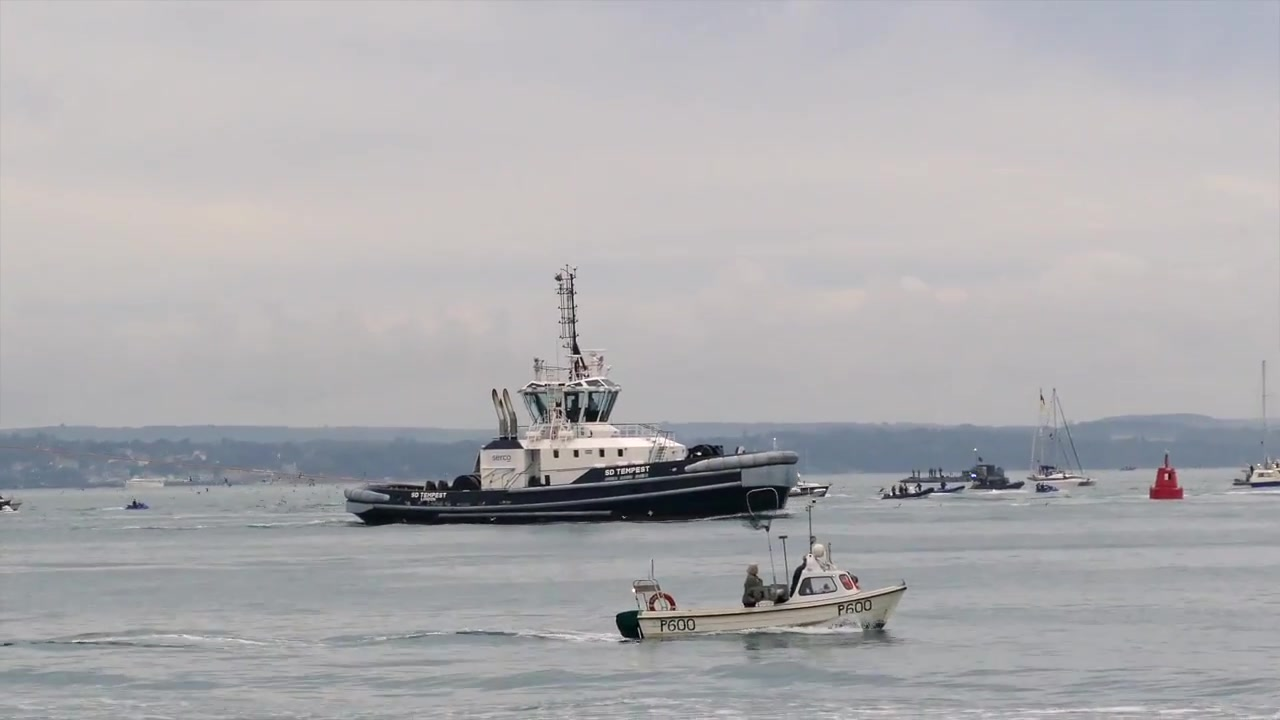CommonShip: (337, 332, 795, 527), (600, 519, 915, 649)
